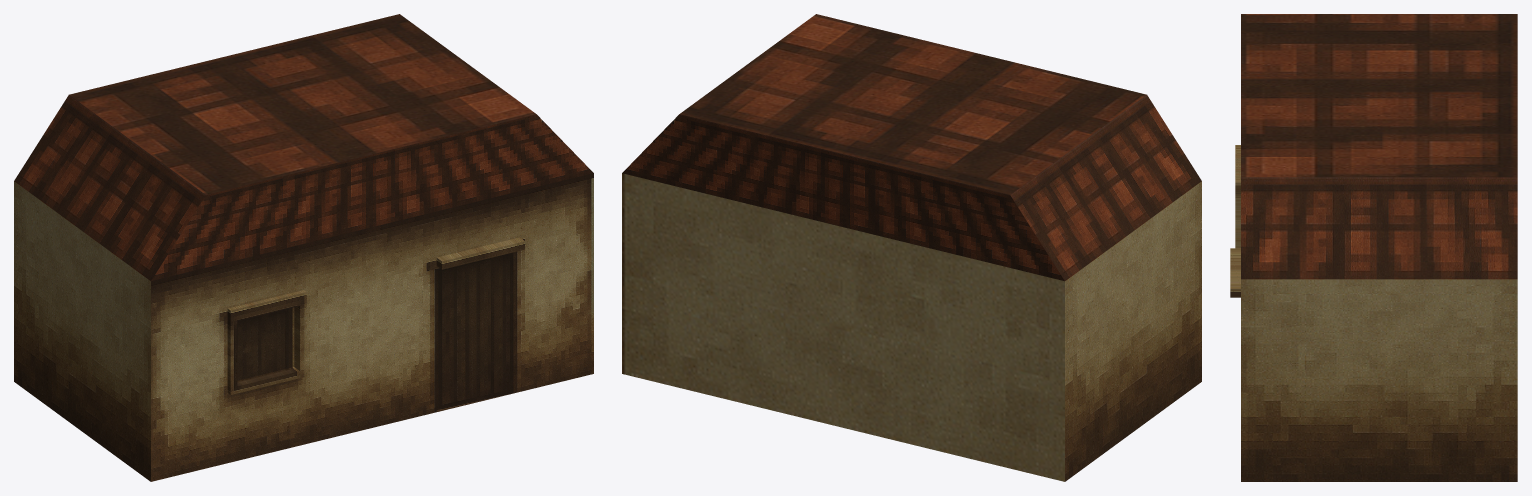
The model's file is House_1.obj.
The picture shows the model from 3 angles, left to right: view 1: azimuth 30°, elevation 25°; view 2: azimuth 150°, elevation 25°; view 3: azimuth 270°, elevation 25°; orthographic projection.
Parts seen in each view (by area): view 1: Cube; view 2: Cube; view 3: Cube.
Boxes of the visible parts, x1,y1,x2,y2 form: Cube: (14, 14, 593, 481); Cube: (622, 14, 1201, 481); Cube: (1230, 14, 1517, 481).
Bounding box in the file's own units: 3.74 × 2.21 × 2.08.
